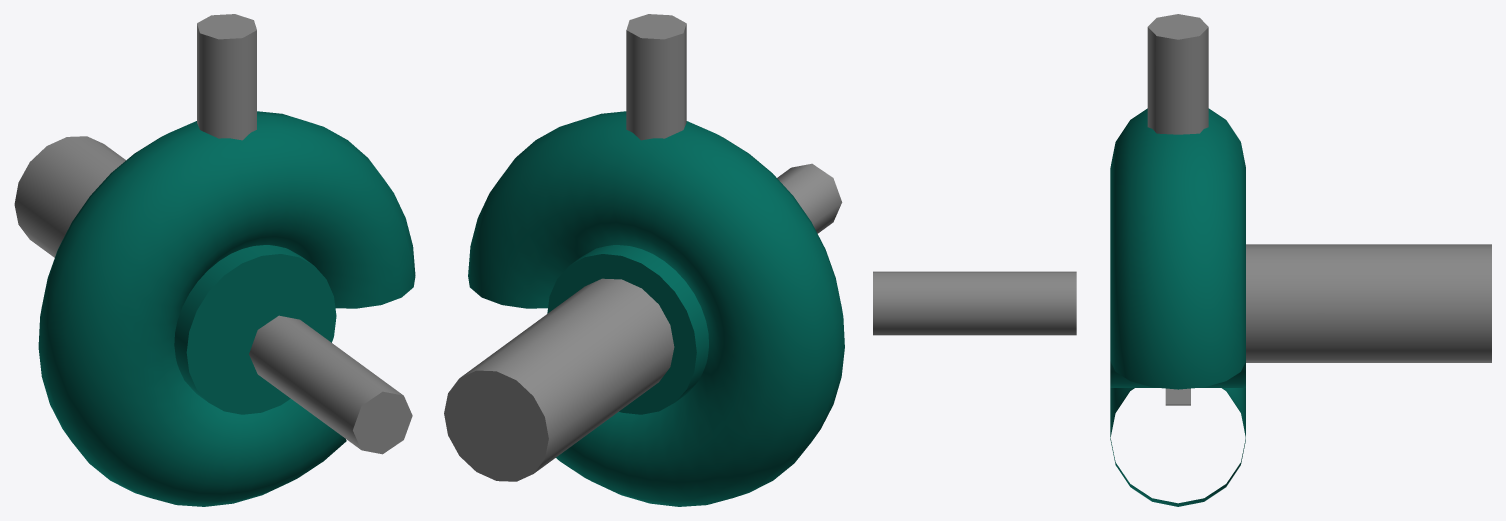
The model's file is feedwater.glb.
3 views of the same model, side by side, from view 1: azimuth 30°, elevation 25°; view 2: azimuth 150°, elevation 25°; view 3: azimuth 270°, elevation 25° (orthographic). The views are drawn at different scales.
Bounding box in the file's own units: 2.4 × 3 × 3.65.
